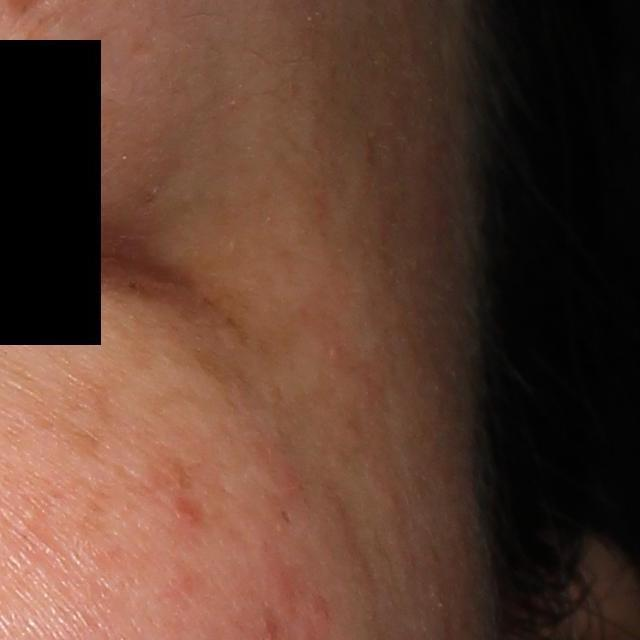melasma: (56, 358, 114, 422), (55, 417, 109, 460)
papule: (170, 496, 198, 525)
